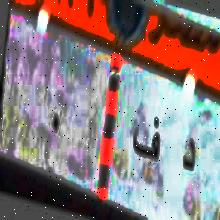0: (48, 104, 63, 141)
daal: (181, 132, 198, 178)
faa: (130, 107, 162, 173)
